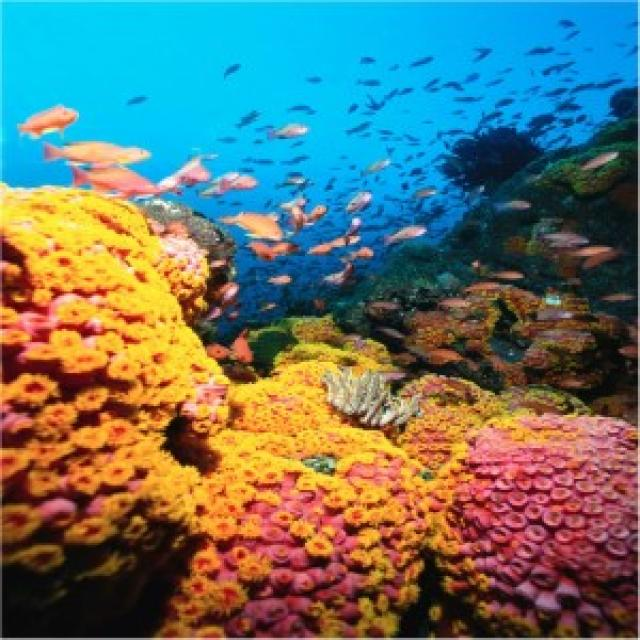Bleached: (327, 374, 419, 427)
Healthy: (1, 186, 229, 634), (178, 411, 426, 634), (440, 416, 635, 634), (398, 374, 498, 469), (231, 361, 344, 434)
